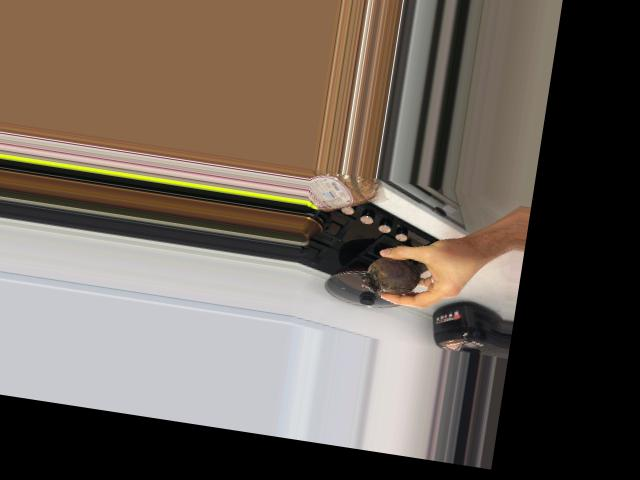beet: (359, 253, 425, 298)
